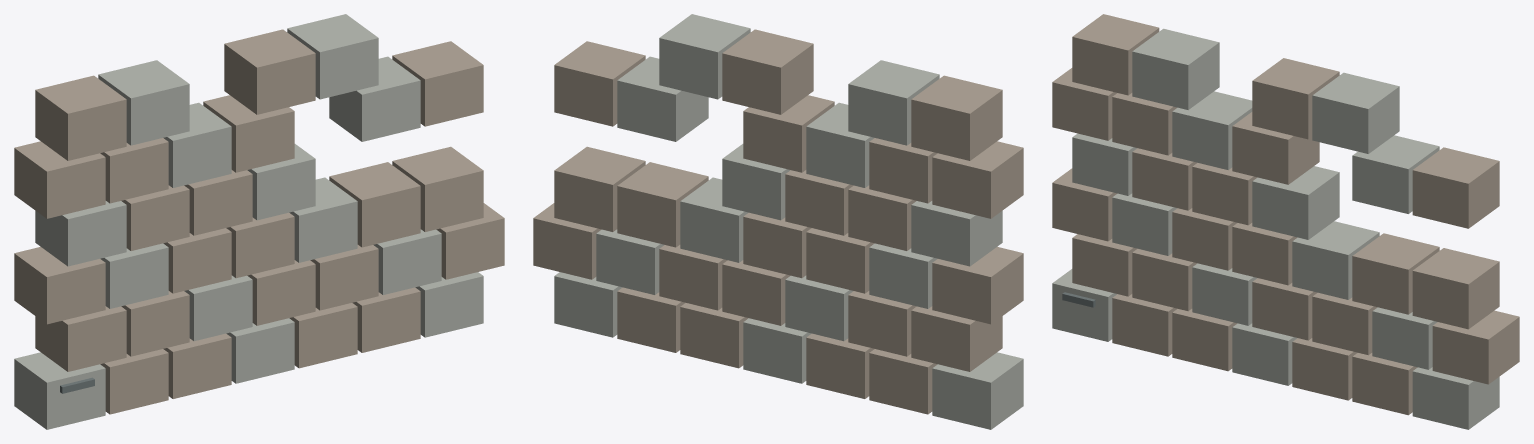
File: muro_ruina_arenito.glb
3 renders of one model, left to right at view 1: azimuth 30°, elevation 25°; view 2: azimuth 150°, elevation 25°; view 3: azimuth 330°, elevation 25°, orthographic. The views are drawn at different scales.
Parts seen in each view (by area): view 1: muro_ruina_arenito_part_032, muro_ruina_arenito_part_034, muro_ruina_arenito_part_015, muro_ruina_arenito_part_026, muro_ruina_arenito_part_000, muro_ruina_arenito_part_035, muro_ruina_arenito_part_020, muro_ruina_arenito_part_021, muro_ruina_arenito_part_031, muro_ruina_arenito_part_033, muro_ruina_arenito_part_030, muro_ruina_arenito_part_008 (+23 smaller); view 2: muro_ruina_arenito_part_032, muro_ruina_arenito_part_034, muro_ruina_arenito_part_000, muro_ruina_arenito_part_015, muro_ruina_arenito_part_026, muro_ruina_arenito_part_035, muro_ruina_arenito_part_020, muro_ruina_arenito_part_021, muro_ruina_arenito_part_031, muro_ruina_arenito_part_033, muro_ruina_arenito_part_030, muro_ruina_arenito_part_008 (+23 smaller); view 3: muro_ruina_arenito_part_021, muro_ruina_arenito_part_035, muro_ruina_arenito_part_031, muro_ruina_arenito_part_033, muro_ruina_arenito_part_025, muro_ruina_arenito_part_014, muro_ruina_arenito_part_032, muro_ruina_arenito_part_034, muro_ruina_arenito_part_020, muro_ruina_arenito_part_030, muro_ruina_arenito_part_019, muro_ruina_arenito_part_028 (+23 smaller).
Boxes of the visible parts, x1=… form: muro_ruina_arenito_part_032: x1=35, y1=75, x2=126, y2=160; muro_ruina_arenito_part_034: x1=224, y1=29, x2=315, y2=114; muro_ruina_arenito_part_015: x1=14, y1=246, x2=105, y2=324; muro_ruina_arenito_part_026: x1=14, y1=141, x2=105, y2=218; muro_ruina_arenito_part_000: x1=14, y1=352, x2=105, y2=429; muro_ruina_arenito_part_035: x1=287, y1=14, x2=378, y2=99; muro_ruina_arenito_part_020: x1=329, y1=162, x2=420, y2=247; muro_ruina_arenito_part_021: x1=392, y1=146, x2=483, y2=231; muro_ruina_arenito_part_031: x1=392, y1=41, x2=483, y2=126; muro_ruina_arenito_part_033: x1=98, y1=60, x2=189, y2=145; muro_ruina_arenito_part_030: x1=329, y1=56, x2=420, y2=141; muro_ruina_arenito_part_008: x1=35, y1=306, x2=126, y2=371; muro_ruina_arenito_part_032: x1=911, y1=75, x2=1002, y2=160; muro_ruina_arenito_part_034: x1=722, y1=29, x2=813, y2=114; muro_ruina_arenito_part_000: x1=932, y1=352, x2=1023, y2=429; muro_ruina_arenito_part_015: x1=932, y1=246, x2=1023, y2=324; muro_ruina_arenito_part_026: x1=932, y1=141, x2=1023, y2=218; muro_ruina_arenito_part_035: x1=659, y1=14, x2=750, y2=99; muro_ruina_arenito_part_020: x1=617, y1=162, x2=708, y2=247; muro_ruina_arenito_part_021: x1=554, y1=146, x2=645, y2=231; muro_ruina_arenito_part_031: x1=554, y1=41, x2=645, y2=126; muro_ruina_arenito_part_033: x1=848, y1=60, x2=939, y2=145; muro_ruina_arenito_part_030: x1=617, y1=56, x2=708, y2=141; muro_ruina_arenito_part_008: x1=911, y1=306, x2=1002, y2=371; muro_ruina_arenito_part_021: x1=1412, y1=248, x2=1499, y2=329; muro_ruina_arenito_part_035: x1=1312, y1=72, x2=1399, y2=153; muro_ruina_arenito_part_031: x1=1412, y1=147, x2=1499, y2=228; muro_ruina_arenito_part_033: x1=1132, y1=28, x2=1219, y2=109; muro_ruina_arenito_part_025: x1=1252, y1=166, x2=1339, y2=239; muro_ruina_arenito_part_014: x1=1432, y1=310, x2=1519, y2=384; muro_ruina_arenito_part_032: x1=1072, y1=14, x2=1159, y2=95; muro_ruina_arenito_part_034: x1=1252, y1=58, x2=1339, y2=139; muro_ruina_arenito_part_020: x1=1352, y1=233, x2=1439, y2=314; muro_ruina_arenito_part_030: x1=1352, y1=135, x2=1439, y2=213; muro_ruina_arenito_part_019: x1=1292, y1=221, x2=1379, y2=299; muro_ruina_arenito_part_028: x1=1172, y1=91, x2=1252, y2=169.
Bounding box in the file's own units: 4.36 × 2.83 × 0.58.
